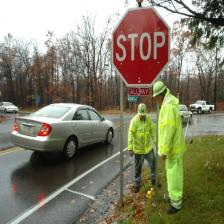Stop-sign: (109, 5, 173, 85)
